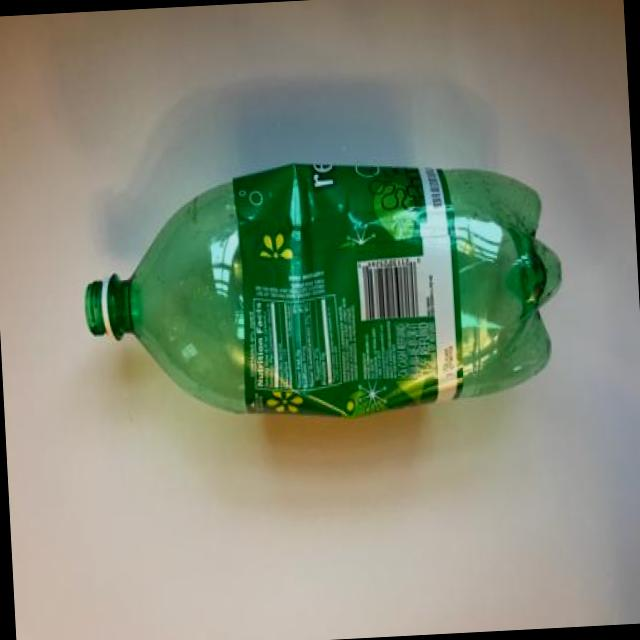Recycle: (81, 160, 568, 432)
